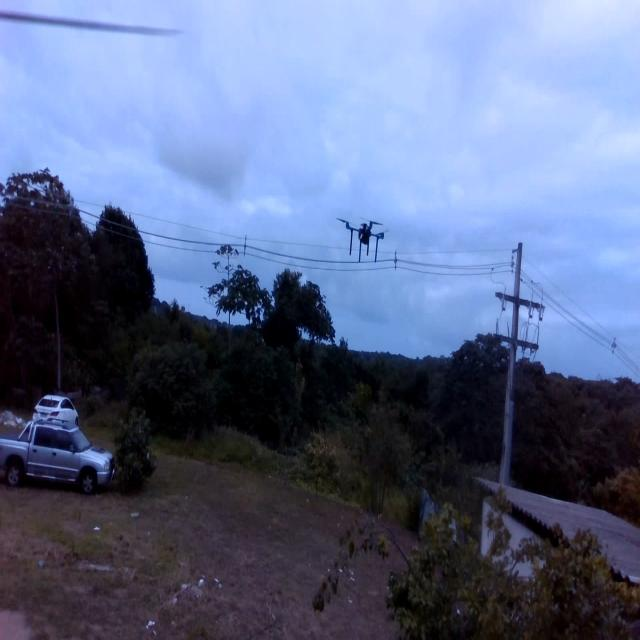-uav-: (329, 182, 402, 282)
